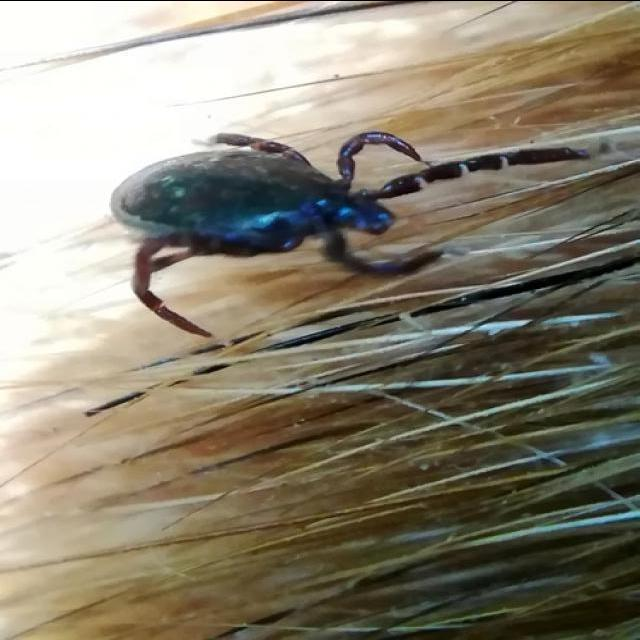Ixodes Ricinus-M: (109, 129, 589, 337)
